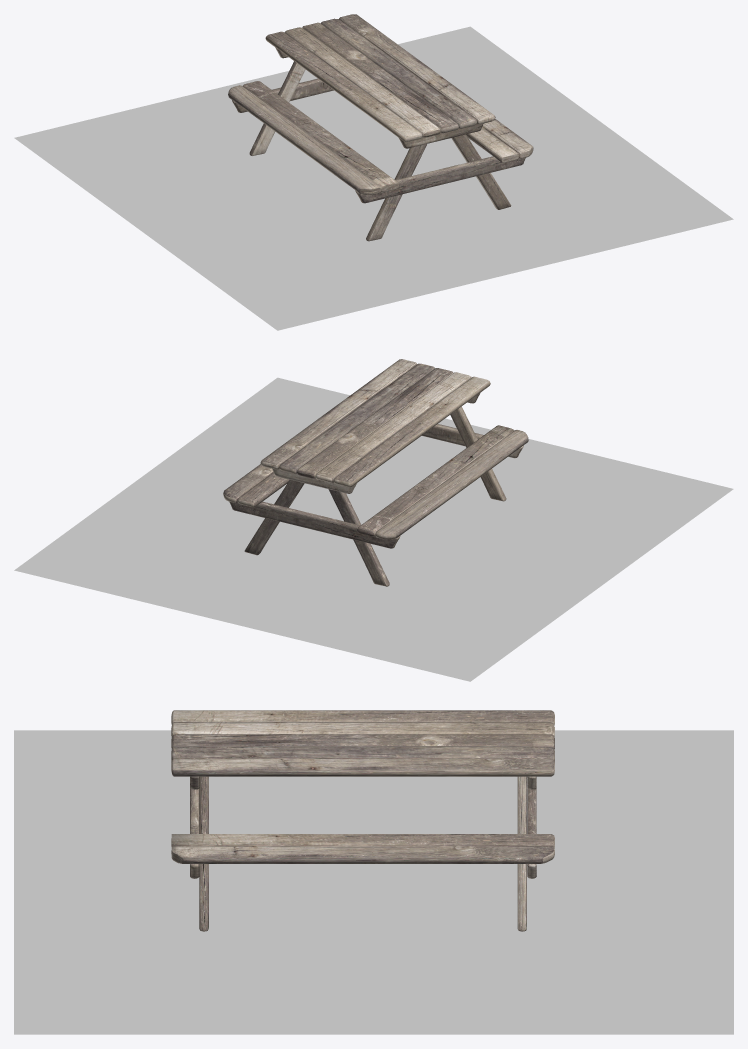
File: picnictable.fbx
The picture shows the model from 3 angles, top to bottom: view 1: azimuth 30°, elevation 25°; view 2: azimuth 150°, elevation 25°; view 3: azimuth 270°, elevation 25°; orthographic projection. The views are drawn at different scales.
Visible parts, largest first — view 1: Plane, Picnic_Table; view 2: Plane, Picnic_Table; view 3: Plane, Picnic_Table.
Part boxes in pixels (x1,y1,x2,y2): Plane: (14, 26, 733, 330); Picnic_Table: (228, 14, 533, 241); Plane: (14, 377, 733, 681); Picnic_Table: (223, 359, 528, 586); Plane: (14, 730, 733, 1034); Picnic_Table: (171, 710, 554, 931).
Bounding box in the file's own units: 5.66 × 1.26 × 5.66.
